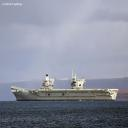Portanaves: (12, 66, 120, 103)
